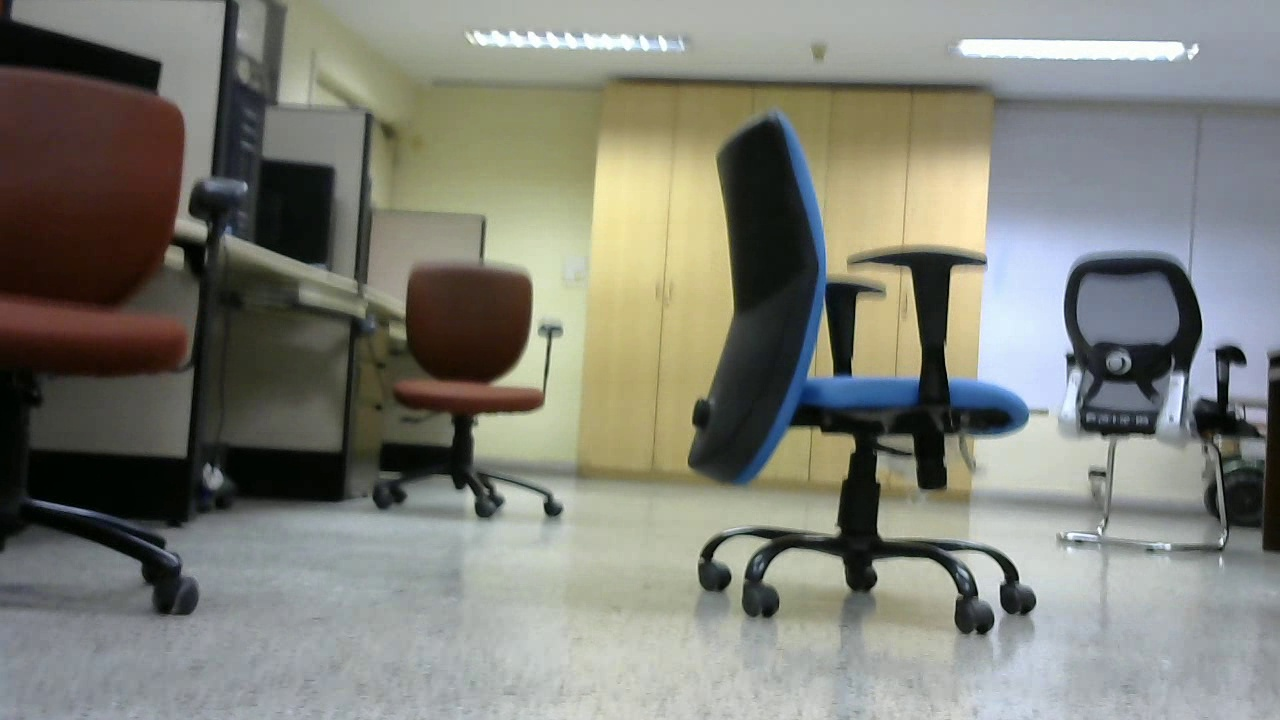chair: (681, 112, 1043, 632), (2, 66, 208, 614), (1043, 240, 1235, 557), (371, 245, 579, 519)
